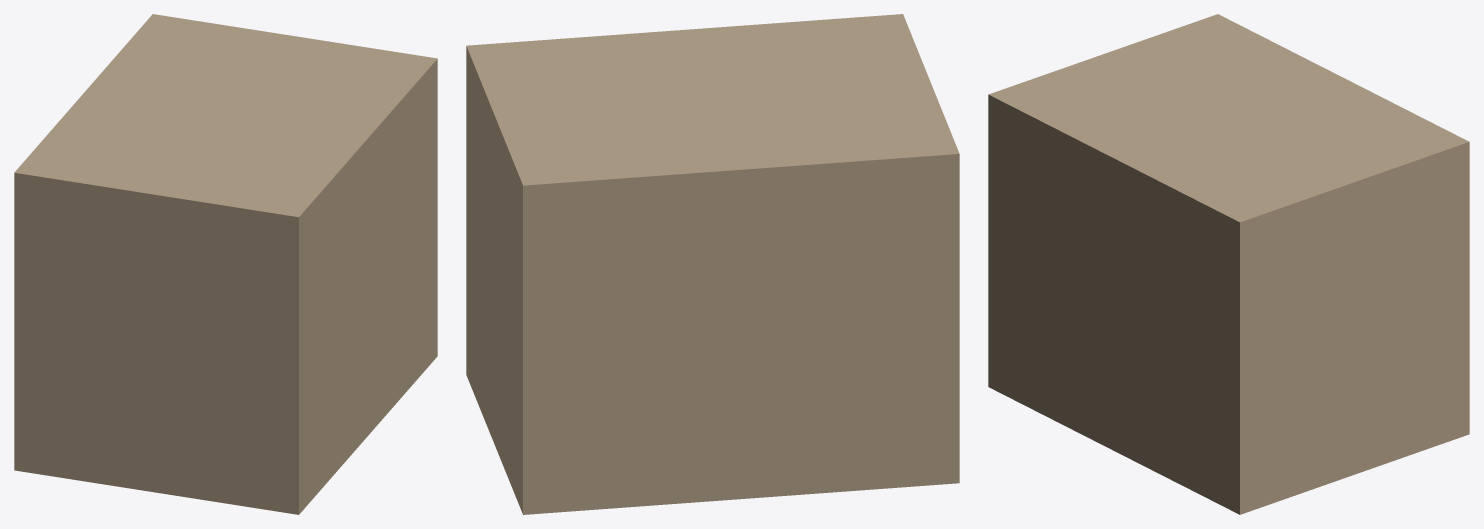
The model's file is bld_106339130.dae.
The picture shows the model from 3 angles, left to right: view 1: azimuth 30°, elevation 25°; view 2: azimuth 150°, elevation 25°; view 3: azimuth 270°, elevation 25°; orthographic projection. The views are drawn at different scales.
Visible parts, largest first — view 1: bld_106339130; view 2: bld_106339130; view 3: bld_106339130.
Boxes of the visible parts, x1,y1,x2,y2 form: bld_106339130: (14,14,437,514); bld_106339130: (466,14,959,514); bld_106339130: (988,14,1469,514).
Bounding box in the file's own units: 12.22 × 11.92 × 8.
